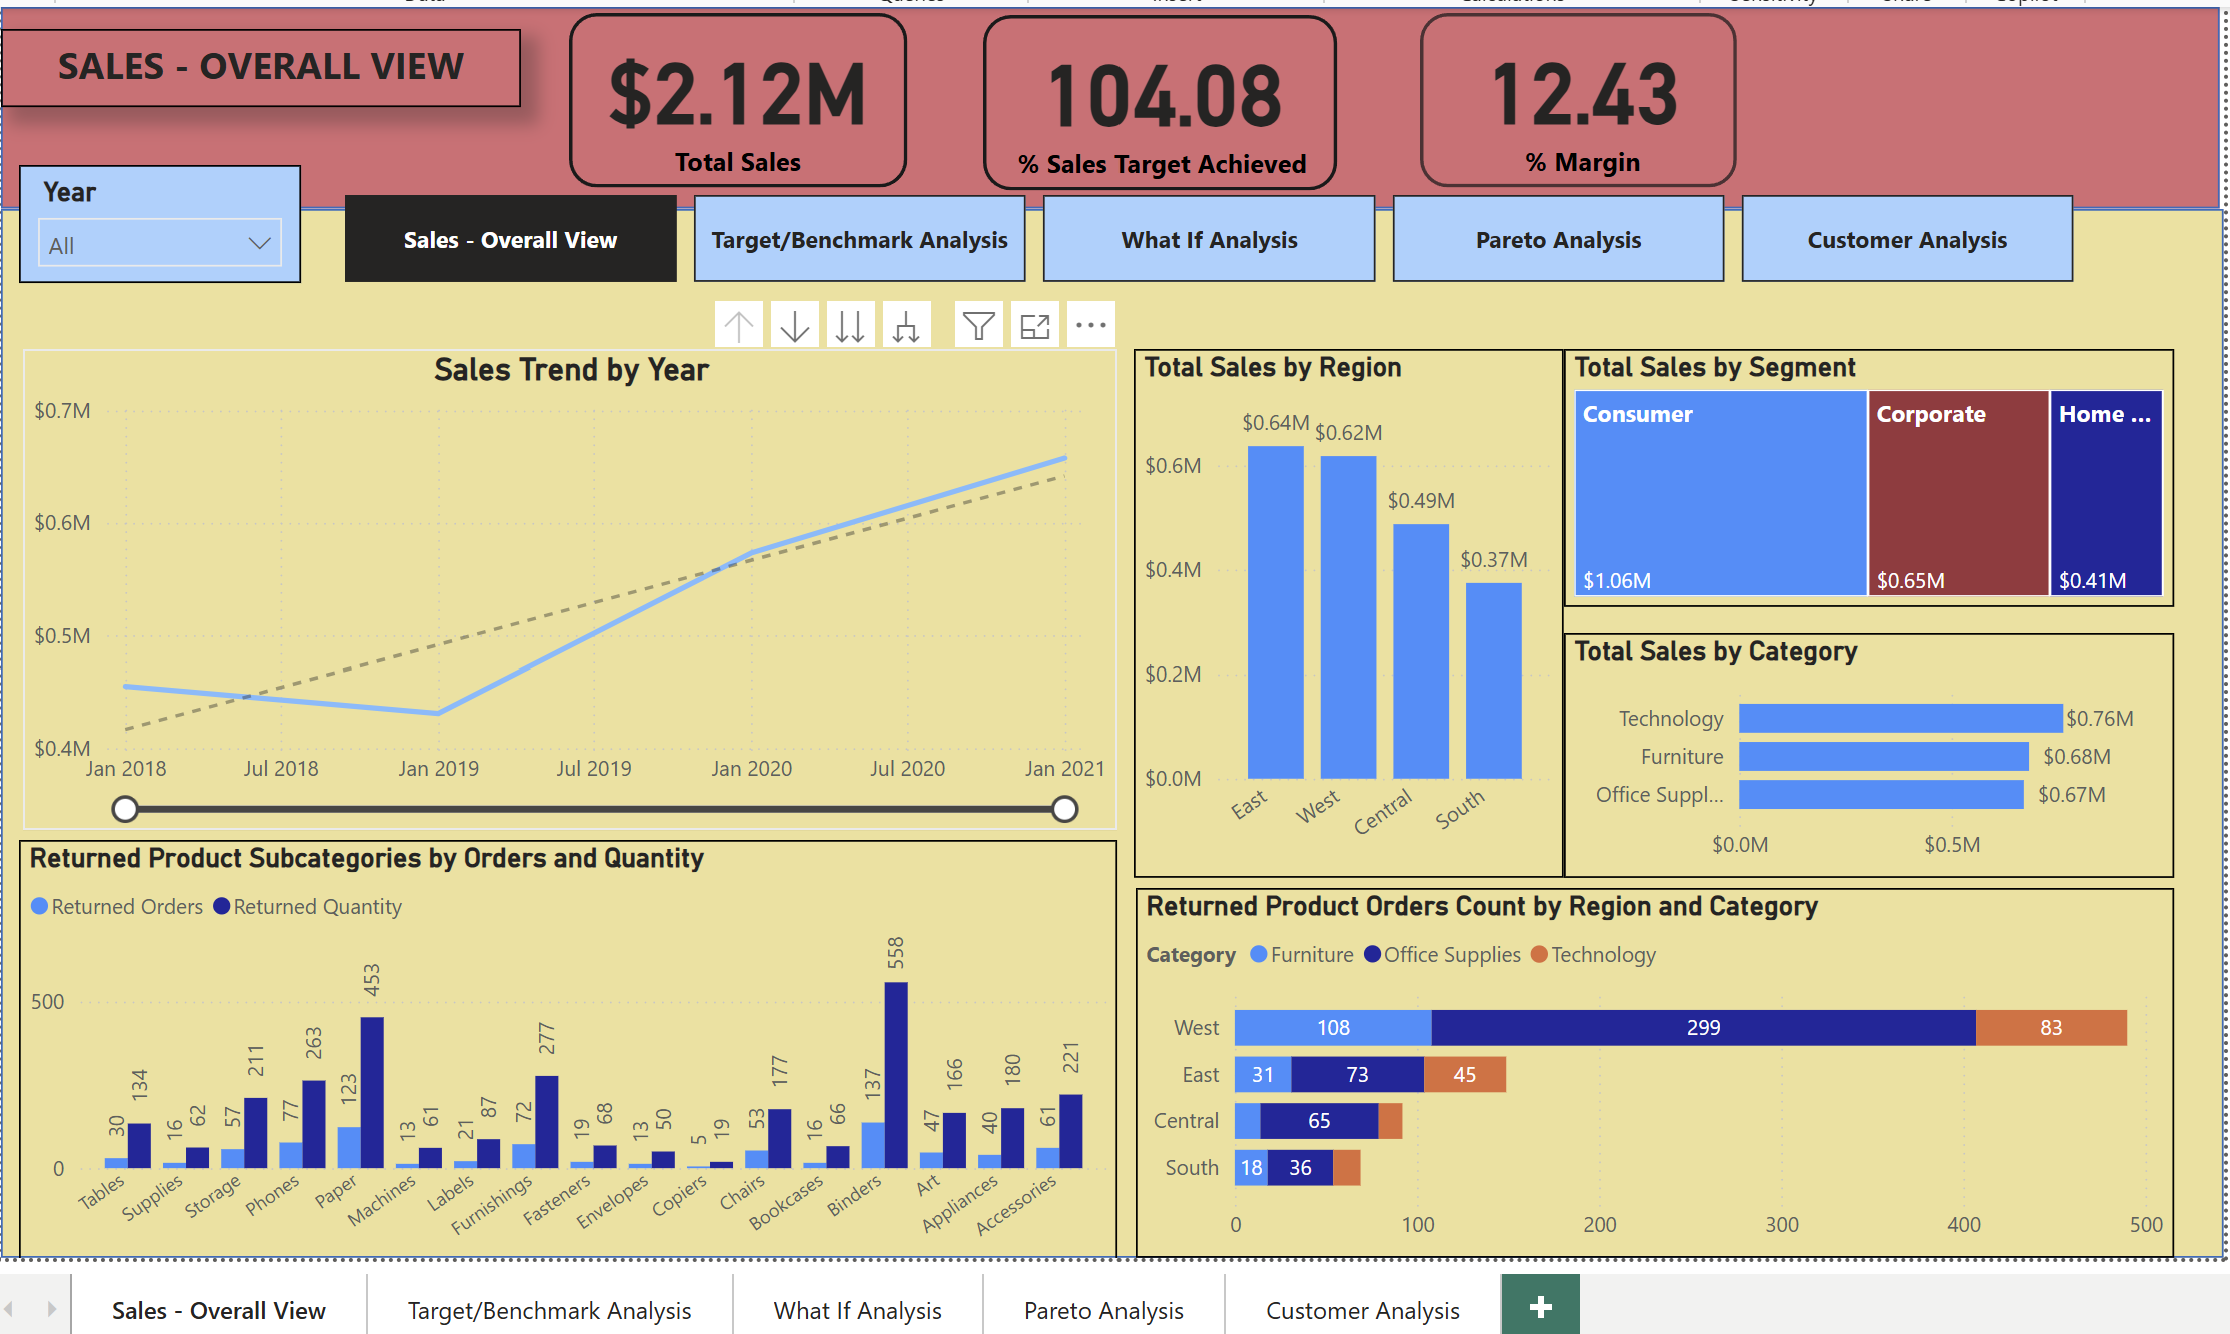

Layout of this report page (visuals, bound fields, positions):
{"tool":"powerbi","page":{"name":"Sales - Overall View","canvas":[1280,720],"ordinal":0},"visuals":[{"type":"shape","box":[0,0,1280,116.2],"z":0},{"type":"shape","box":[0,116.2,1280,603.7],"z":1000},{"type":"card","fields":{"Values":["Measure Table.Total Sales"]},"box":[321,0,206.1,108.3],"z":2000},{"type":"card","fields":{"Values":["Measure Table.% Target Achieved"]},"box":[550.7,1.2,236.2,108.3],"z":3000},{"type":"card","fields":{"Values":["Measure Table.% Margin"]},"box":[797.9,0,224.6,108.3],"z":4000},{"type":"shape","box":[327.4,3.7,194.9,100.5],"z":5000},{"type":"shape","box":[565.9,4.3,203.8,101.2],"z":6000},{"type":"shape","box":[816.6,3.7,182.7,100.5],"z":7000},{"type":"lineChart","title":"Sales Trend by Year","fields":{"Category":["Calendar.Start of Year Hierarchy.Start of Year","Calendar.Start of Year Hierarchy.StartOfQuarter","Calendar.Start of Year Hierarchy.Start of Month"],"Y":["Measure Table.Total Sales"]},"box":[12.7,197,630.1,276.5],"z":8000},{"type":"treemap","fields":{"Group":["Orders.Segment"],"Values":["Measure Table.Total Sales"]},"box":[899.7,197,351.4,148.6],"z":9000},{"type":"clusteredBarChart","fields":{"Y":["Measure Table.Total Sales"],"Category":["Product.Category"]},"box":[899.7,360.6,351.4,140.5],"z":10000},{"type":"clusteredColumnChart","fields":{"Y":["Measure Table.Total Sales"],"Category":["Orders.Region"]},"box":[652,197,247.7,304.1],"z":11000},{"type":"slicer","fields":{"Values":["Calendar.Year"]},"box":[10.4,91,162.4,68],"z":12000},{"type":"pageNavigator","box":[198.1,108.3,1000,50.2],"z":13000},{"type":"clusteredColumnChart","title":"Returned Product Subcategories by Orders and Quantity","fields":{"Category":["Product.Sub-Category"],"Y":["Measure Table.Returned Products by Product ID","Measure Table.Returned Quantity by Product ID"]},"box":[10.4,479.2,632.4,243.1],"z":14000},{"type":"barChart","title":"Returned Product Orders Count by Region and Category","fields":{"Y":["Measure Table.Returned Products Count"],"Category":["Bridge Table.Region"],"Series":["Product.Category"]},"box":[653.2,506.9,597.9,213.1],"z":15000},{"type":"textbox","box":[0,12.7,299.5,44.9],"z":16000}]}

Visuals, with their boxes in screenshot pixels (x1, y1, x2, y2):
shape: [x1=12, y1=0, x2=2211, y2=200]
shape: [x1=12, y1=200, x2=2211, y2=1237]
card - Measure Table.Total Sales: [x1=563, y1=0, x2=917, y2=186]
card - Measure Table.% Target Achieved: [x1=958, y1=2, x2=1364, y2=188]
card - Measure Table.% Margin: [x1=1382, y1=0, x2=1768, y2=186]
shape: [x1=574, y1=6, x2=909, y2=179]
shape: [x1=984, y1=7, x2=1334, y2=181]
shape: [x1=1415, y1=6, x2=1729, y2=179]
"Sales Trend by Year" lineChart: [x1=33, y1=338, x2=1116, y2=814]
treemap - Orders.Segment x Measure Table.Total Sales: [x1=1557, y1=338, x2=2161, y2=594]
clusteredBarChart - Measure Table.Total Sales x Product.Category: [x1=1557, y1=620, x2=2161, y2=861]
clusteredColumnChart - Measure Table.Total Sales x Orders.Region: [x1=1132, y1=338, x2=1557, y2=861]
slicer - Calendar.Year: [x1=29, y1=156, x2=308, y2=273]
pageNavigator: [x1=352, y1=186, x2=2070, y2=272]
"Returned Product Subcategories by Orders and Quantity" clusteredColumnChart: [x1=29, y1=823, x2=1116, y2=1241]
"Returned Product Orders Count by Region and Category" barChart: [x1=1134, y1=871, x2=2161, y2=1237]
textbox: [x1=12, y1=22, x2=526, y2=99]
